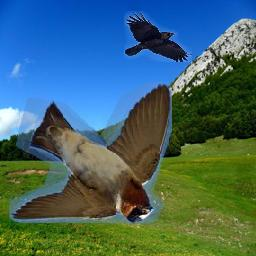Crow: (124, 12, 192, 63)
Swallow: (10, 83, 173, 224)
